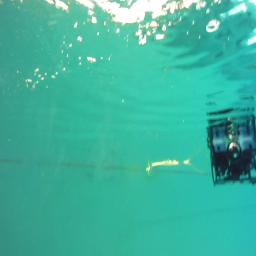front: (207, 135, 256, 186)
